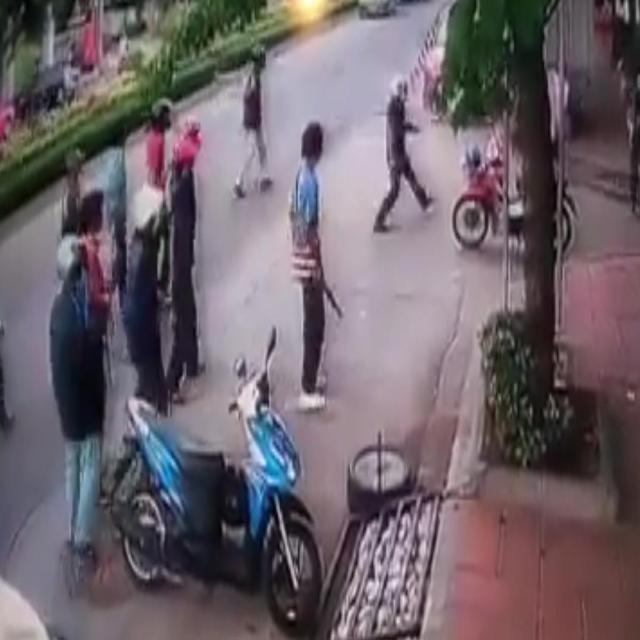helmet: (56, 236, 86, 284), (150, 98, 172, 128), (389, 74, 411, 101), (252, 42, 266, 71)
